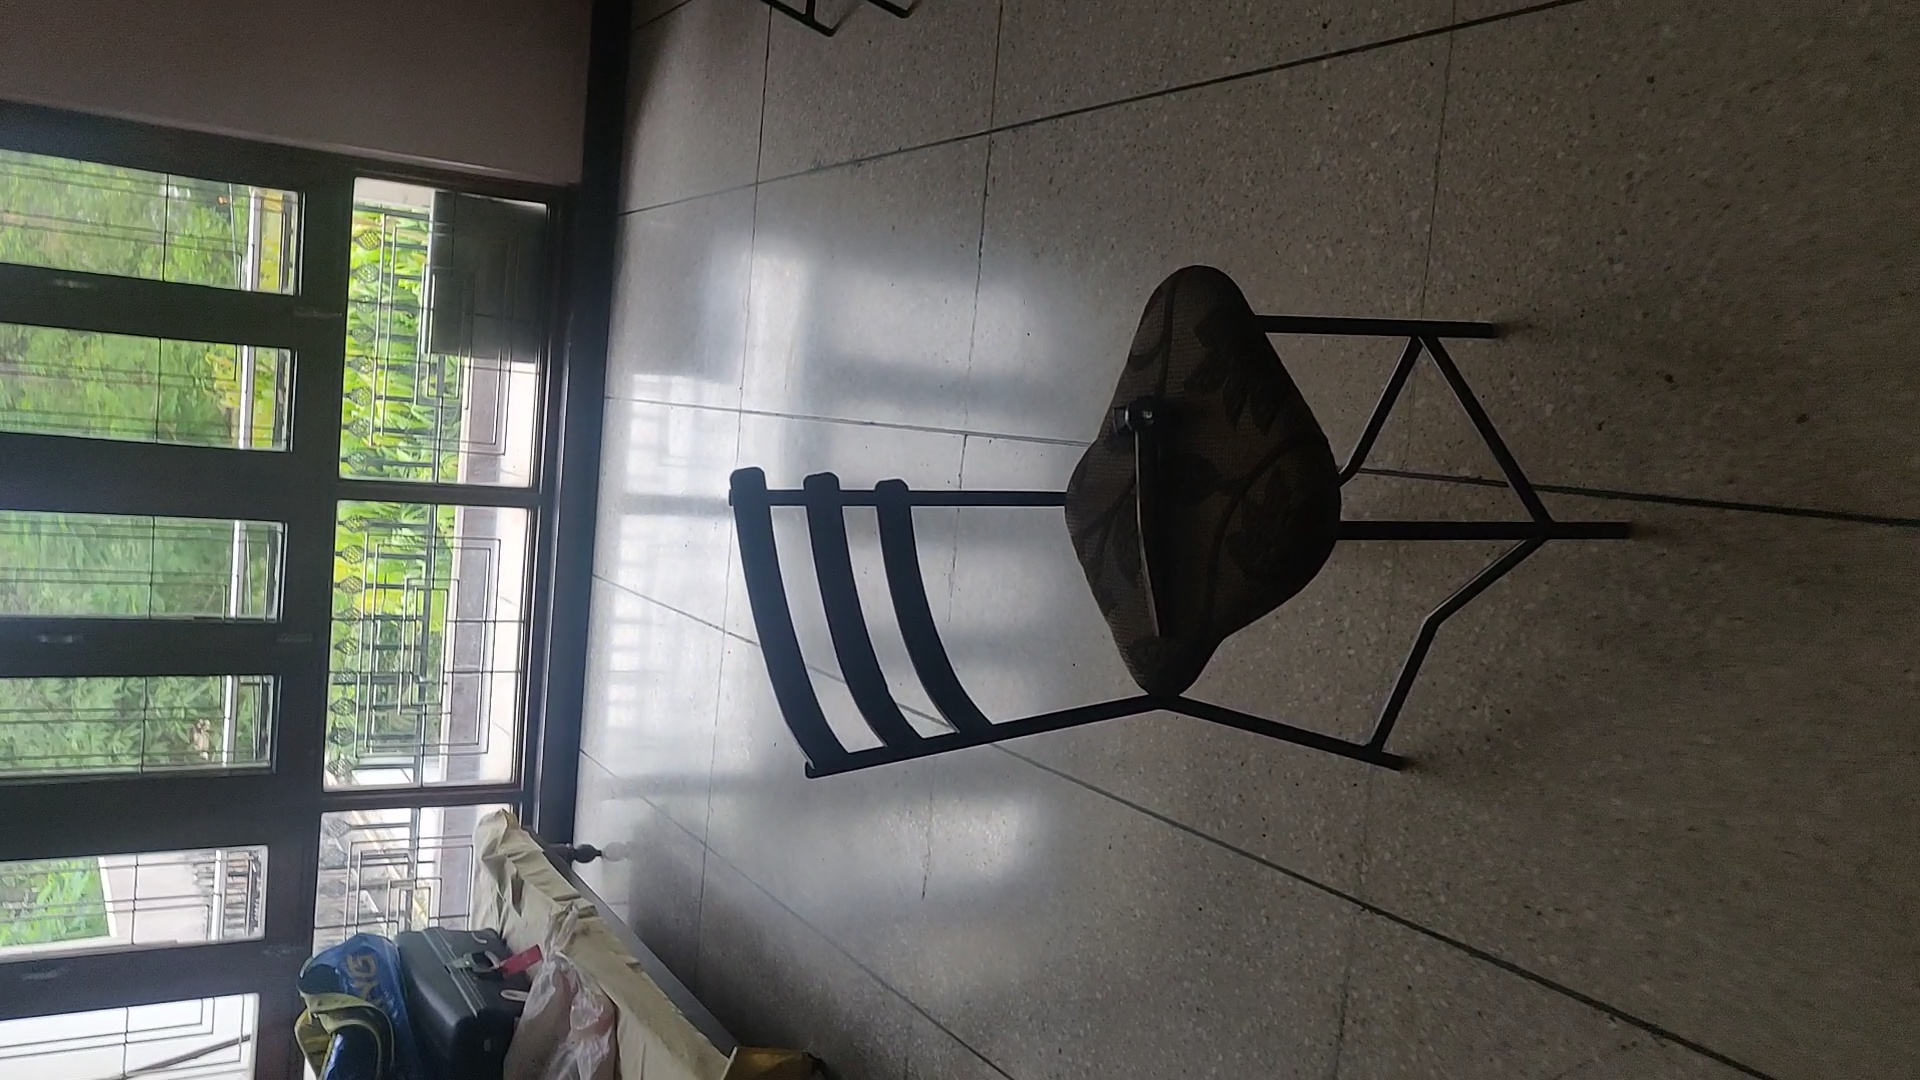hammer: (1106, 392, 1203, 642)
